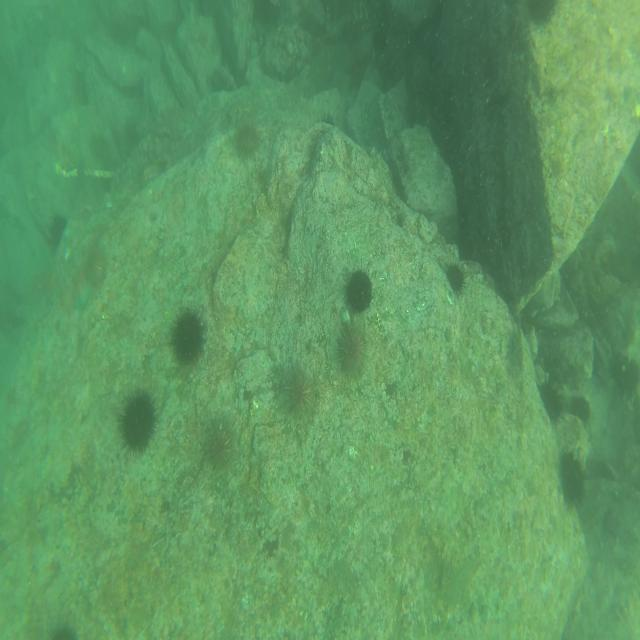echinus: (120, 380, 156, 448), (283, 368, 319, 428), (338, 316, 370, 381), (172, 310, 204, 363), (206, 414, 236, 468), (612, 347, 640, 401), (347, 264, 374, 314), (563, 450, 585, 509), (46, 211, 72, 254), (540, 373, 560, 425), (87, 245, 110, 288), (446, 257, 468, 296), (236, 121, 258, 155), (572, 390, 594, 420), (317, 110, 341, 134)
starfish: (70, 279, 92, 314)
